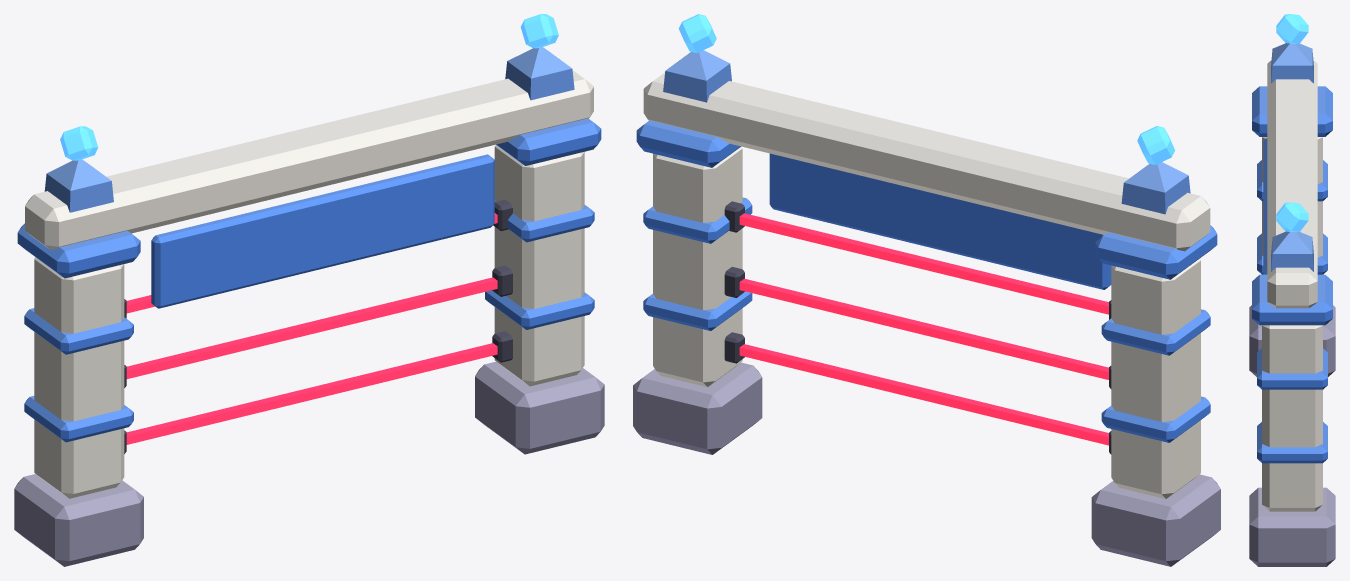
The model's file is Gate_4.glb.
3 views of the same model, side by side, from view 1: azimuth 30°, elevation 25°; view 2: azimuth 150°, elevation 25°; view 3: azimuth 270°, elevation 25° (orthographic). The views are drawn at different scales.
Visible parts, largest first — view 1: Gate_4, Gate_4_Glow_laser, Gate_4_Glow_acc4; view 2: Gate_4, Gate_4_Glow_laser, Gate_4_Glow_acc4; view 3: Gate_4, Gate_4_Glow_acc4.
Boxes of the visible parts, x1,y1,x2,y2 form: Gate_4: (14, 47, 604, 566); Gate_4_Glow_laser: (126, 213, 497, 444); Gate_4_Glow_acc4: (60, 14, 558, 160); Gate_4: (633, 50, 1220, 566); Gate_4_Glow_laser: (739, 213, 1108, 445); Gate_4_Glow_acc4: (678, 14, 1175, 164); Gate_4: (1249, 43, 1335, 566); Gate_4_Glow_acc4: (1276, 14, 1308, 232).
Size of the model in its own units: 21 by 15.25 by 3.4.
3 materials, 1 textured.
